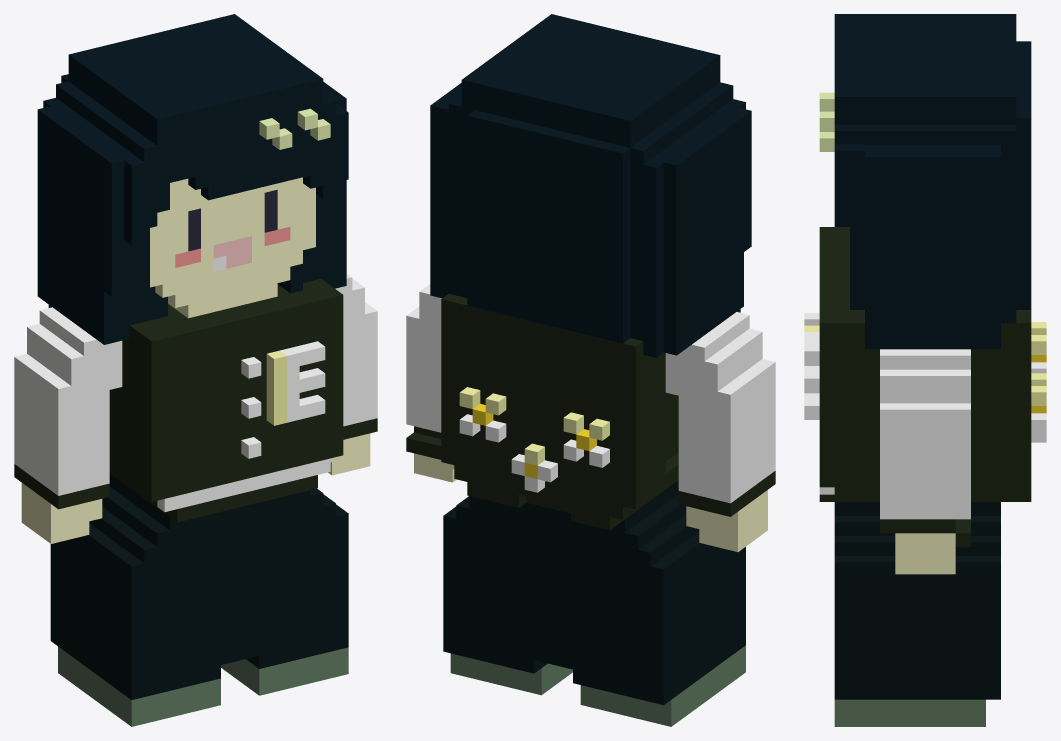
Rendered from player2.obj.
3 renders of one model, left to right at view 1: azimuth 30°, elevation 25°; view 2: azimuth 150°, elevation 25°; view 3: azimuth 270°, elevation 25°, orthographic. The views are drawn at different scales.
Size of the model in its own units: 2.5 by 4.5 by 1.6.
Materials: 1 (1 with a texture image).
